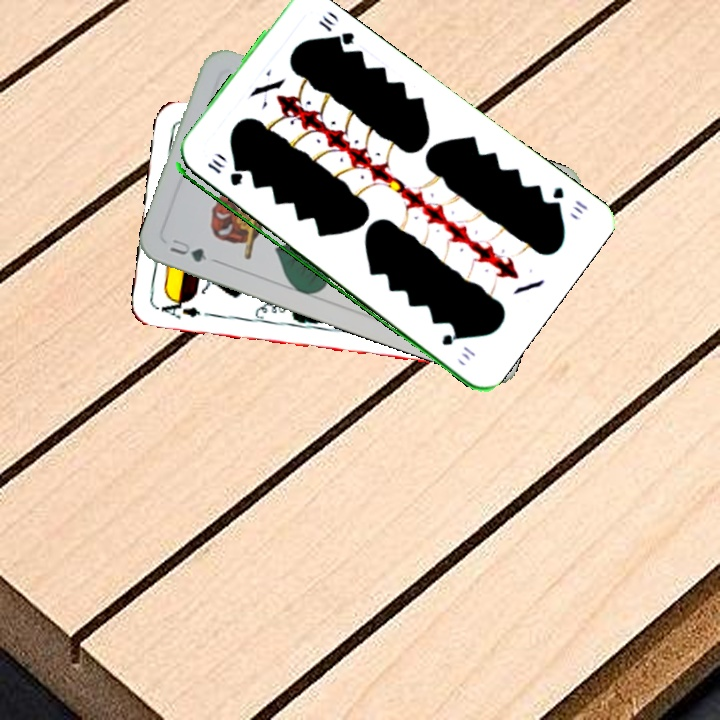EA: (154, 294, 204, 321)
G10: (546, 183, 590, 216), (203, 155, 245, 189)
GU: (166, 233, 210, 265)
